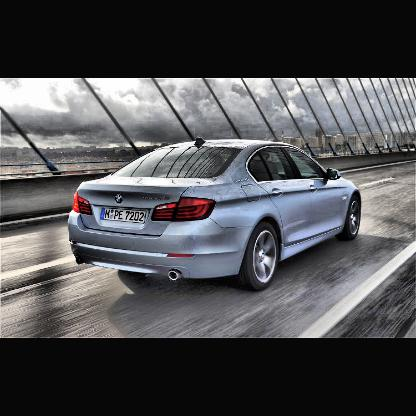BMW ActiveHybrid 5 Sedan 2012: (68, 138, 364, 292)
